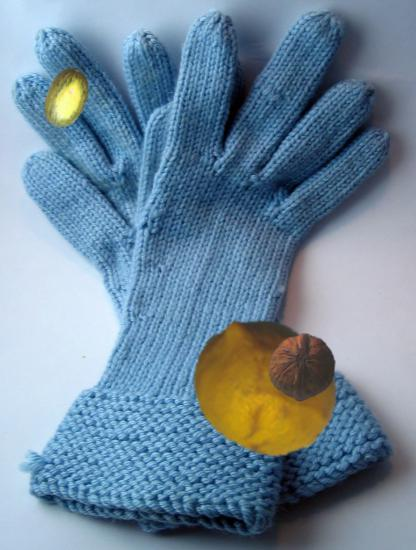Lemon: (192, 313, 340, 461)
Melon: (38, 67, 100, 129)
Walnut: (268, 333, 337, 402)
